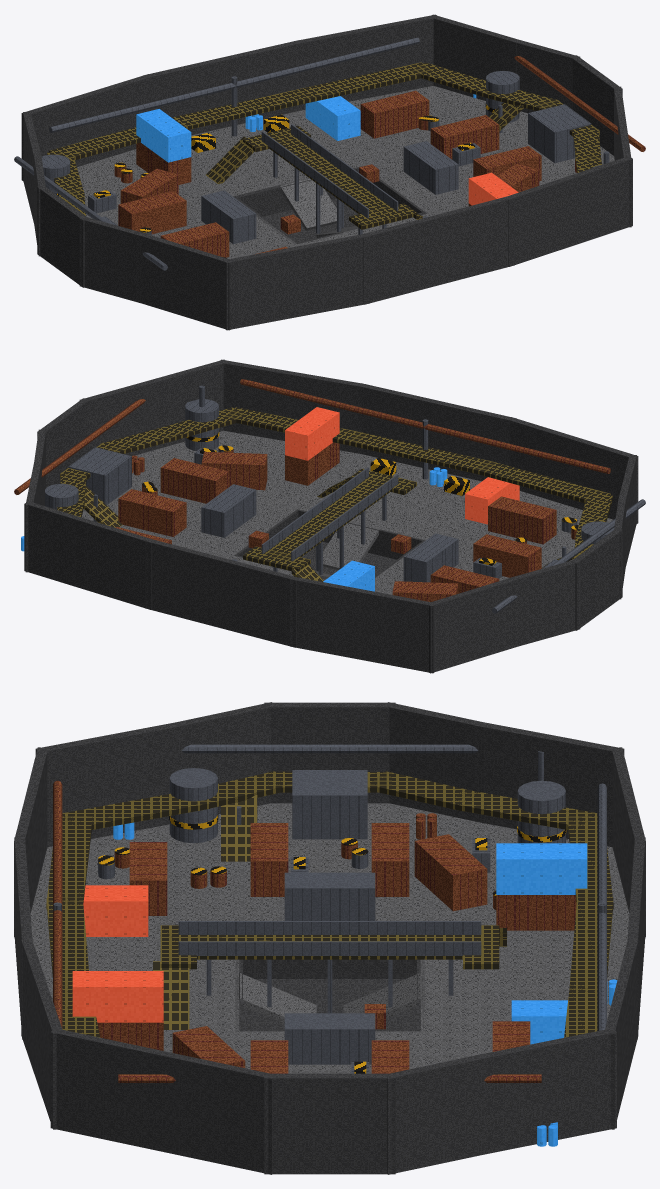
Rendered from snd_foundry.glb.
3 renders of one model, top to bottom at view 1: azimuth 30°, elevation 25°; view 2: azimuth 150°, elevation 25°; view 3: azimuth 270°, elevation 25°, orthographic. The views are drawn at different scales.
Parts seen in each view (by area): view 1: walls-col, cover-col, floor-col, catwalk-col, props, props-col; view 2: walls-col, cover-col, floor-col, catwalk-col, props, props-col; view 3: walls-col, floor-col, cover-col, catwalk-col, props-col, props.
Part boxes in pixels (bbox=[...]): walls-col: bbox=[21, 14, 632, 330]; cover-col: bbox=[102, 90, 591, 257]; floor-col: bbox=[77, 86, 614, 258]; catwalk-col: bbox=[47, 62, 602, 234]; props: bbox=[14, 37, 645, 270]; props-col: bbox=[41, 71, 600, 258]; walls-col: bbox=[24, 359, 638, 673]; cover-col: bbox=[68, 407, 557, 601]; floor-col: bbox=[81, 430, 613, 594]; catwalk-col: bbox=[57, 407, 612, 581]; props: bbox=[14, 379, 645, 613]; props-col: bbox=[21, 399, 614, 578]; walls-col: bbox=[14, 702, 645, 1174]; floor-col: bbox=[30, 803, 629, 1073]; cover-col: bbox=[72, 770, 587, 1073]; catwalk-col: bbox=[46, 771, 613, 1037]; props-col: bbox=[52, 768, 617, 1146]; props: bbox=[53, 744, 606, 1082].
Size of the model in its own units: 58.94 by 10.1 by 41.77.
Materials: 8 (8 with a texture image).
